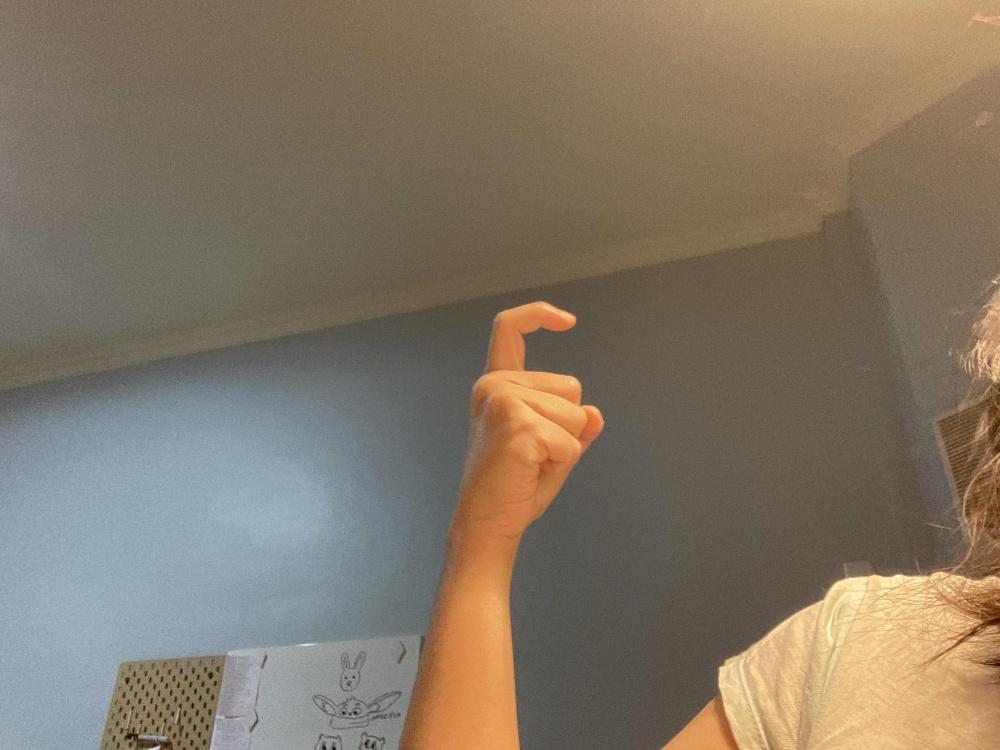x: (451, 300, 604, 537)
